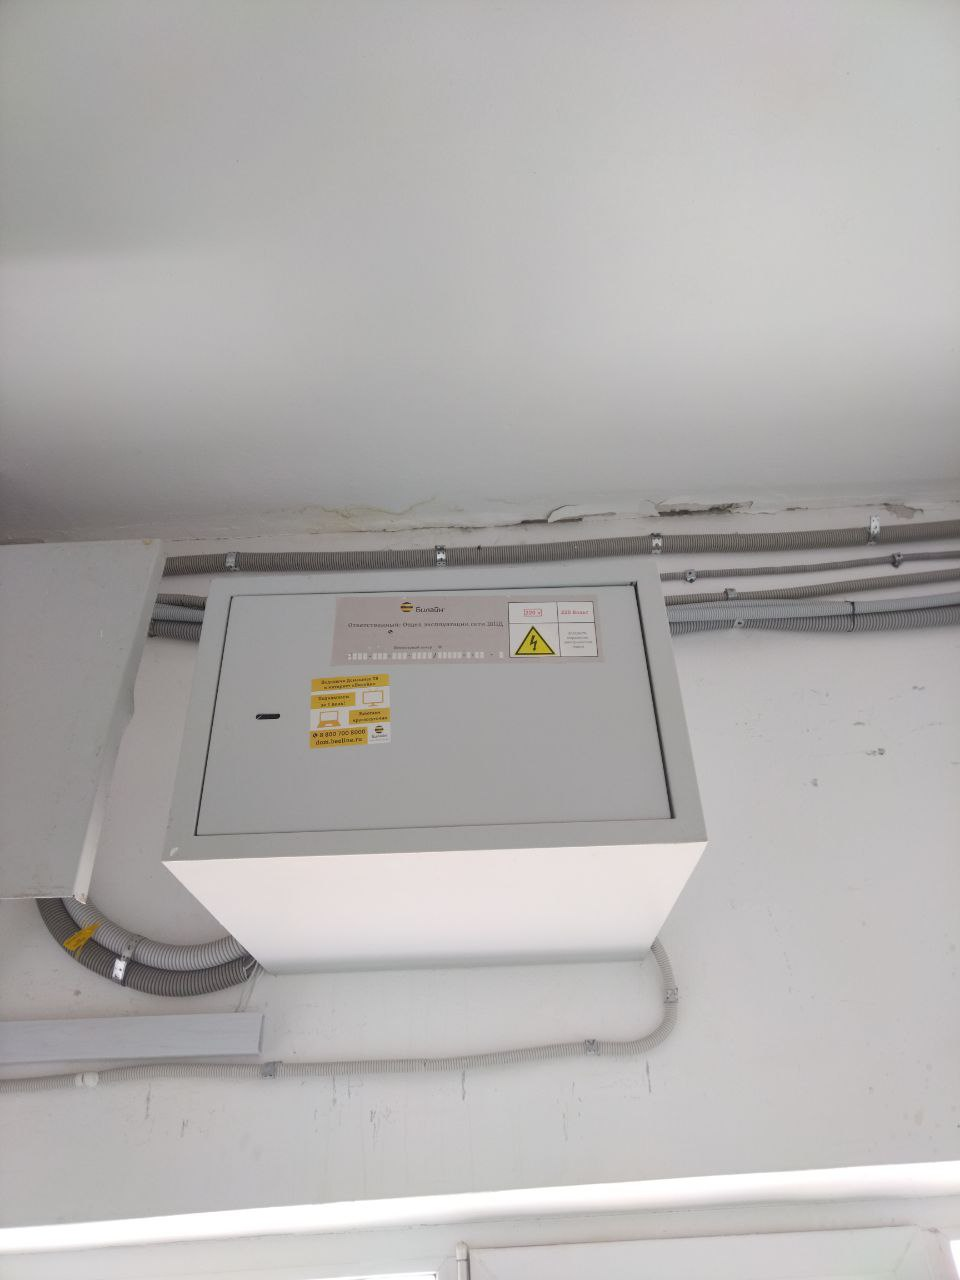shta-7m: (152, 548, 724, 976)
